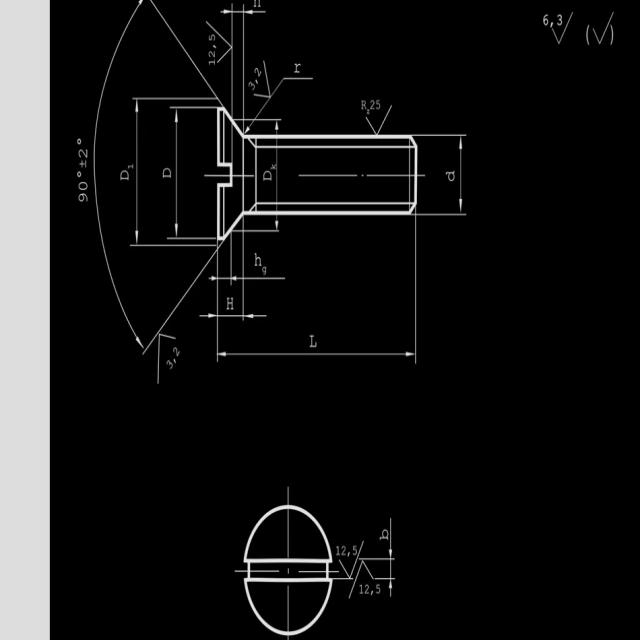marking_line: (92, 0, 215, 387), (213, 250, 418, 367), (131, 91, 216, 250), (169, 104, 216, 242), (202, 249, 271, 319), (421, 132, 468, 218), (244, 77, 316, 133), (223, 7, 252, 111), (207, 250, 291, 282), (387, 518, 393, 599)
numeric: (253, 250, 265, 268), (118, 165, 130, 181), (308, 333, 321, 347), (76, 193, 89, 207), (262, 170, 274, 184), (162, 166, 173, 180), (165, 357, 174, 373), (227, 296, 236, 312), (445, 166, 454, 182), (254, 64, 263, 79), (294, 61, 303, 76), (259, 263, 267, 279), (208, 29, 217, 43), (77, 147, 89, 157), (248, 79, 256, 93), (542, 12, 549, 28), (380, 526, 388, 540), (79, 181, 90, 191), (173, 347, 182, 359), (376, 97, 383, 112), (268, 161, 277, 171), (125, 162, 136, 170), (252, 0, 263, 8), (207, 50, 216, 59), (352, 544, 358, 556), (342, 544, 348, 556), (364, 584, 370, 595), (376, 583, 381, 596), (370, 98, 375, 110), (557, 14, 563, 24), (208, 59, 215, 67), (336, 545, 340, 555), (360, 584, 363, 596)
special_symbol: (585, 8, 618, 47), (157, 334, 180, 382), (349, 561, 375, 598), (338, 540, 365, 574), (363, 105, 393, 133), (551, 13, 576, 45), (584, 23, 590, 46), (609, 24, 615, 45)
